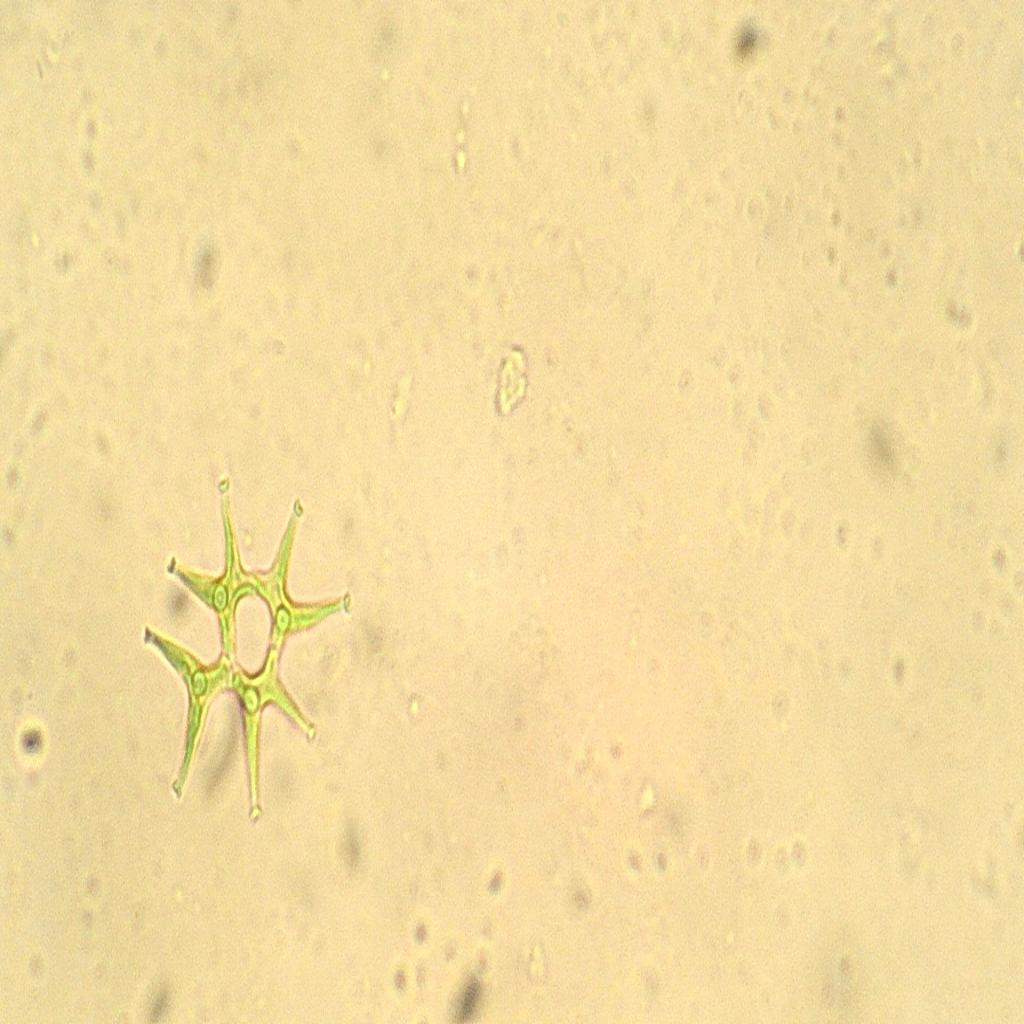Pediastrum_CT: (138, 460, 372, 842)
